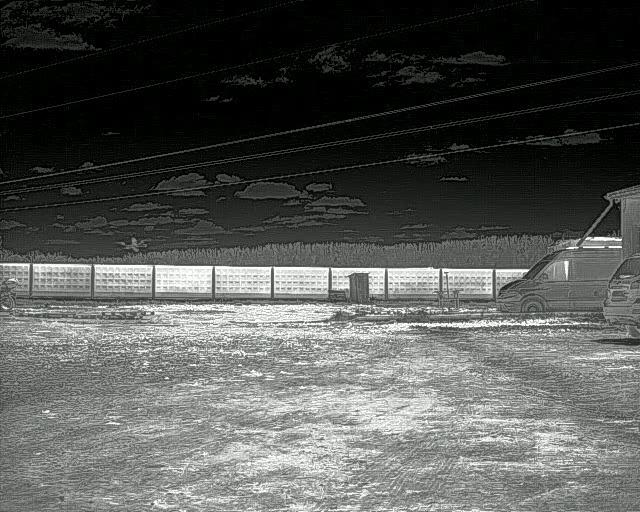drone-thermal: (113, 234, 153, 254)
